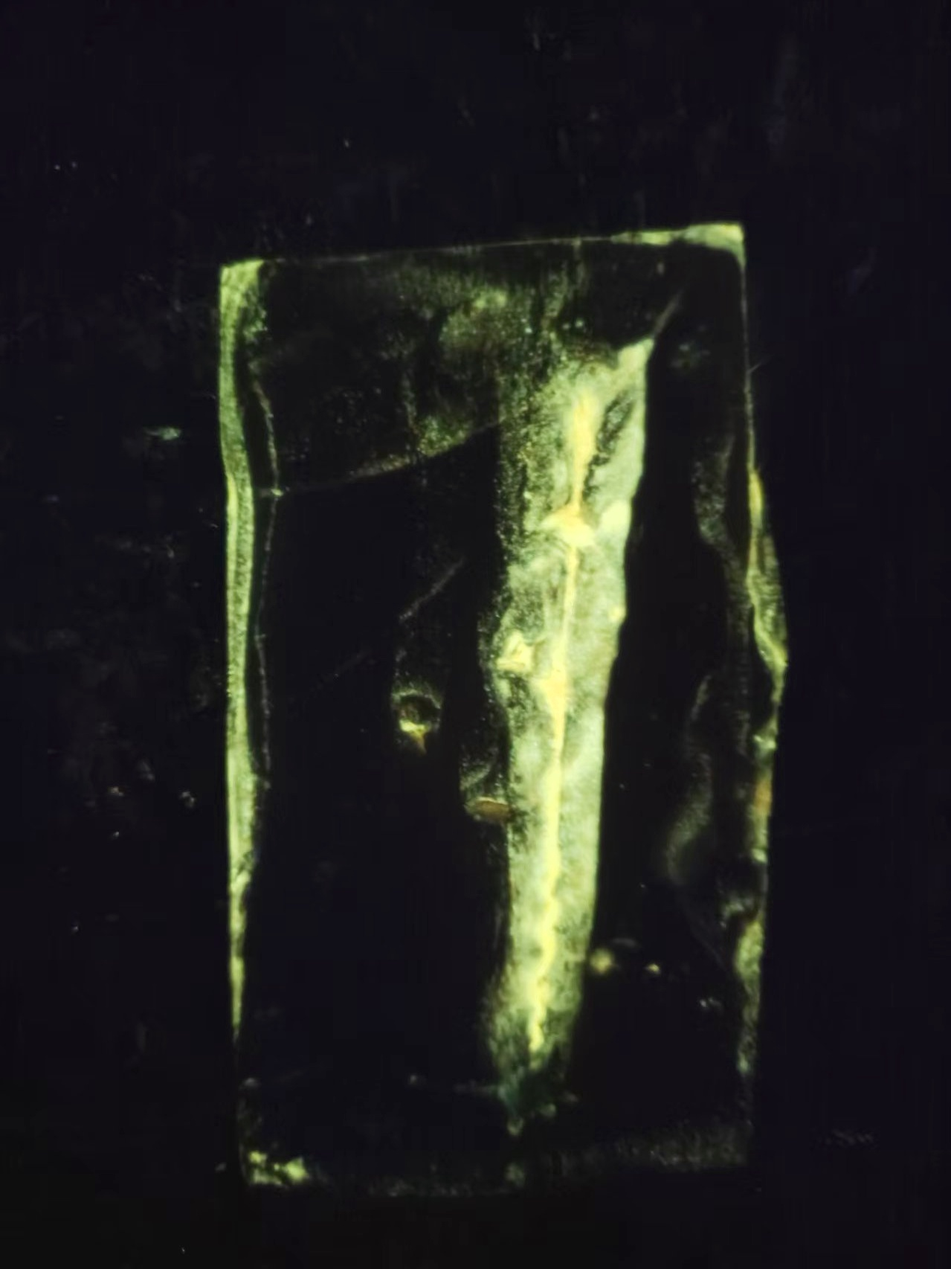Fissure: (469, 300, 679, 1107), (189, 229, 293, 1069)
